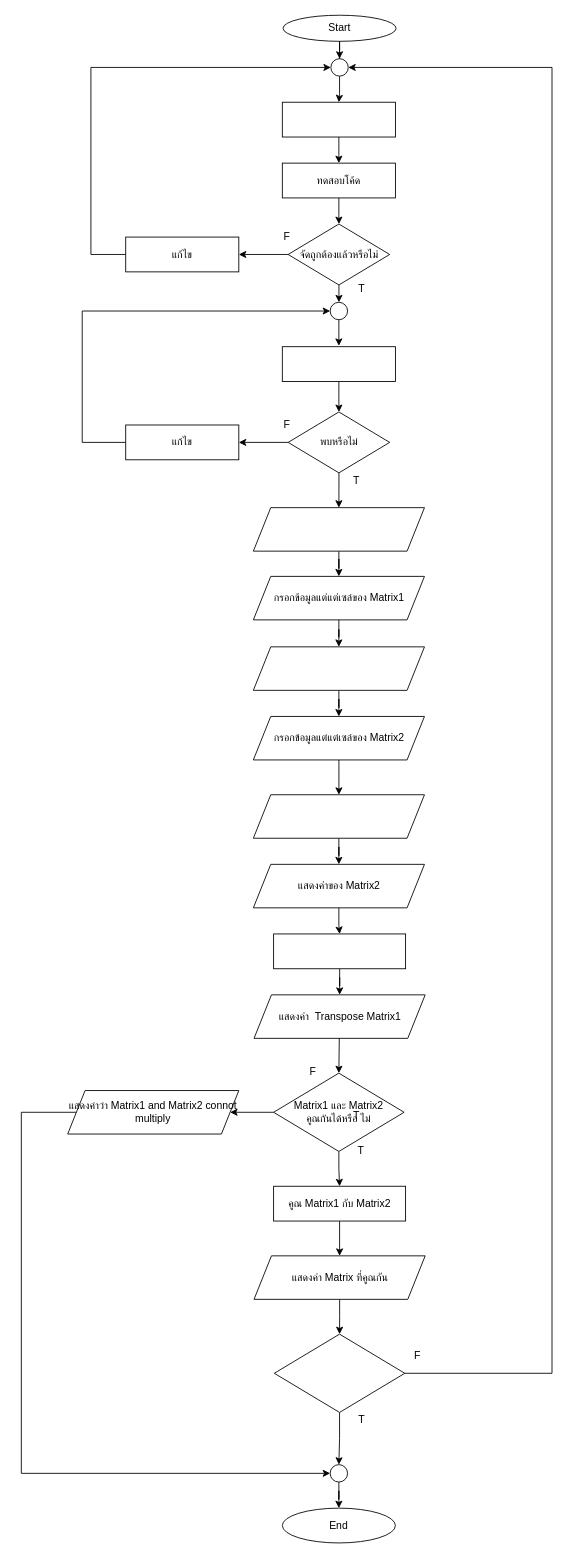
Image size: 574x1558. Some labels were removed from this diagram. Each missing label, with the centre of its shape:
Transpose Matrix1: pixel 339 951
กรอกข้อมูลขนาดของ Matrix1: pixel 338 529
กรอกข้อมูลขนาดของ Matrix2: pixel 338 668
ค่าตรงกับที่คาดการณ์ไว้หรือไม่: pixel 339 1372
จัด Codex โค้ด: pixel 338 119
ตรวจสอบ Bug: pixel 338 363
แสดงค่าของ Matrix1: pixel 338 816
